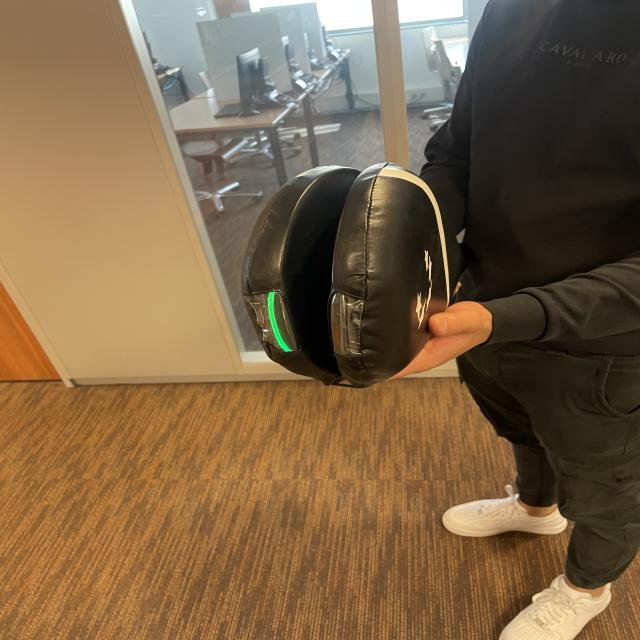paddle: (251, 163, 451, 385)
trigger: (256, 286, 300, 354)
